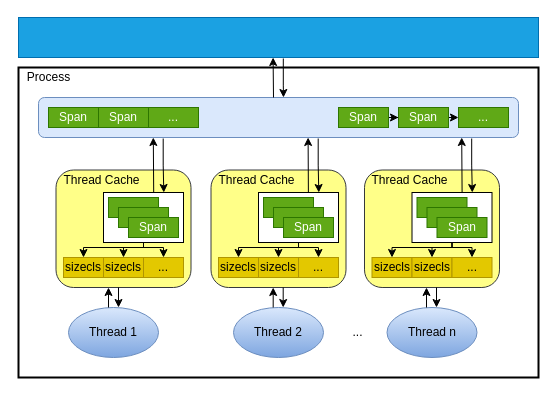
Image size: 556x396. Some labels were removed from this diagram. The box of each missing label's shape, as (x1, y1, x2, y2) in pixels:
Global Pool: (38, 96, 518, 138)
Operating System: (18, 16, 538, 58)
